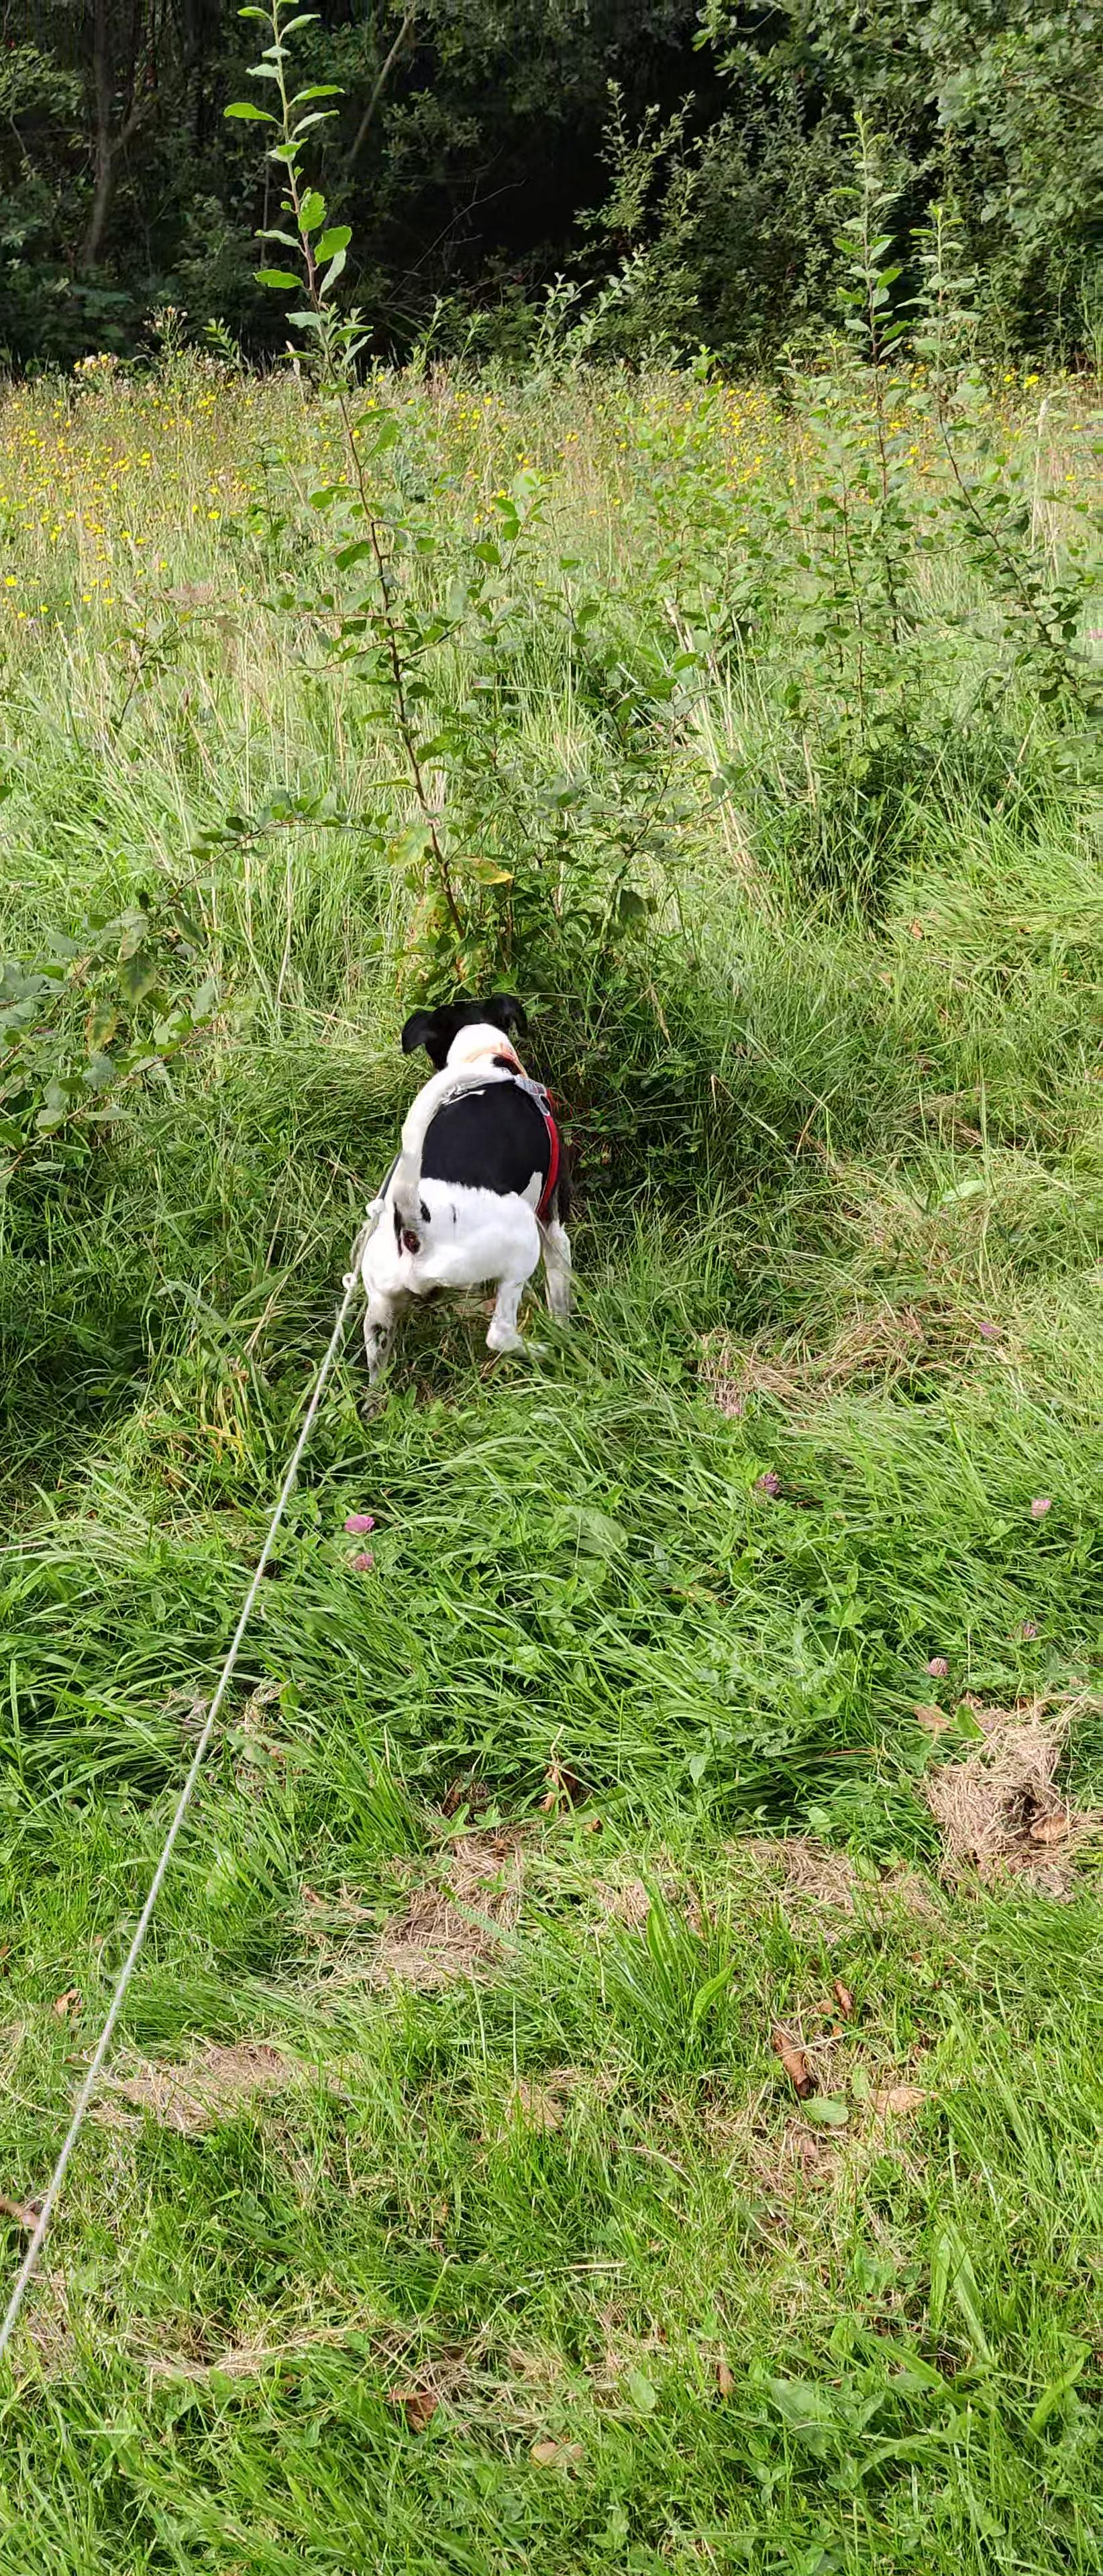Dog: (332, 969, 608, 1437)
